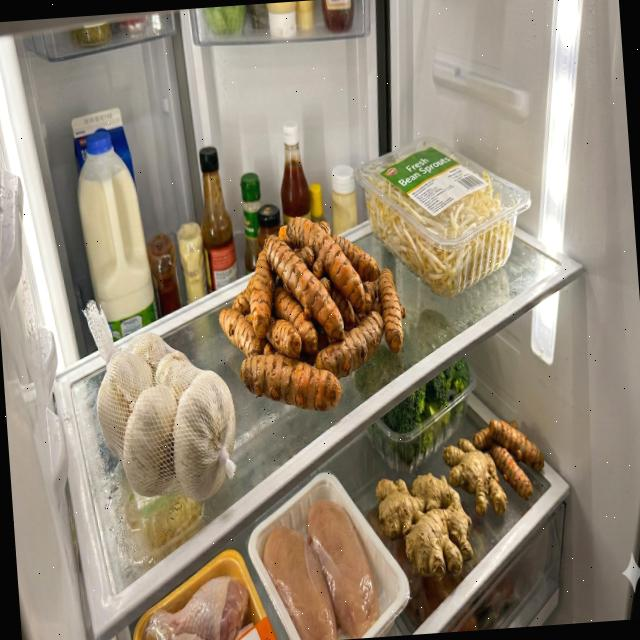bean_sprouts: (362, 136, 516, 302)
brocolli: (376, 356, 476, 467)
chicken: (259, 493, 381, 640), (141, 574, 252, 640)
garlic: (92, 328, 240, 508)
ginger: (374, 469, 475, 586), (442, 434, 508, 519)
turmeric: (212, 210, 412, 420), (472, 414, 546, 505)
